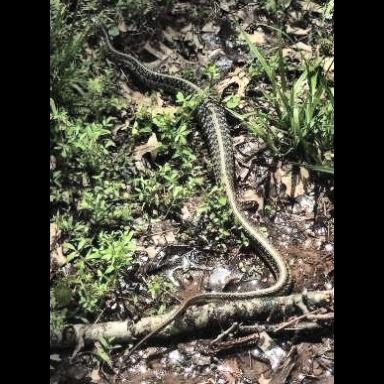snake: (102, 27, 293, 318)
